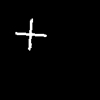single_crochet: (16, 19, 46, 49)
